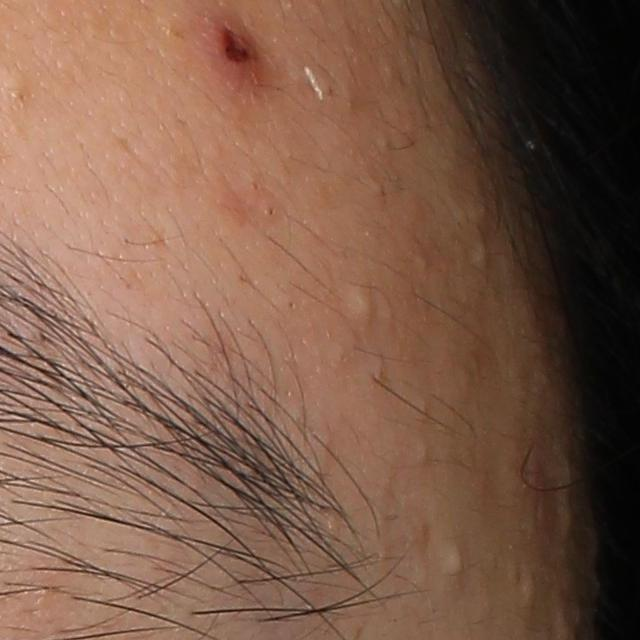comedo: (435, 537, 468, 580), (350, 280, 378, 327), (6, 72, 36, 109), (521, 574, 542, 611), (473, 238, 495, 270), (413, 441, 433, 467)
papule: (198, 16, 269, 86)
